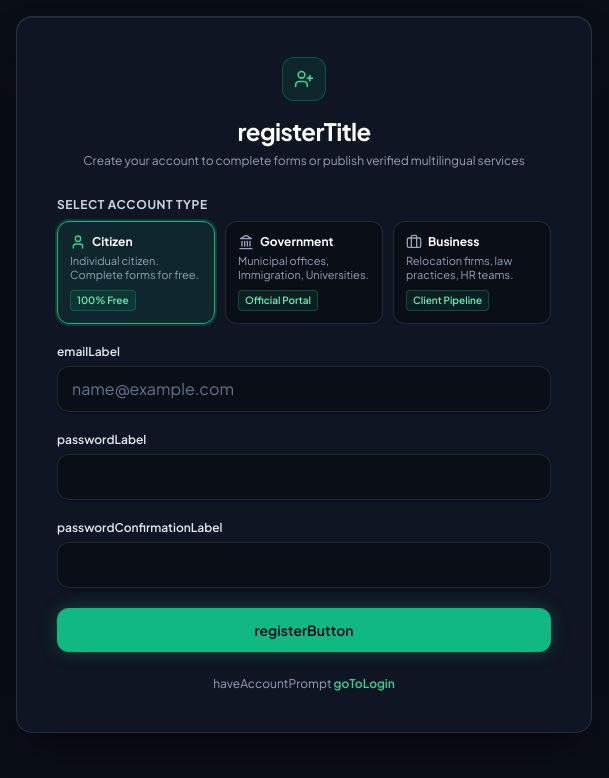
Test: RegisterForm › surfaces the password_mismatch error code as a translated message
The image size is (609, 778).
Type "new@example.com" into the field labelled "emailLabel" at (304, 388), box x1=57 y1=366 x2=551 y2=412
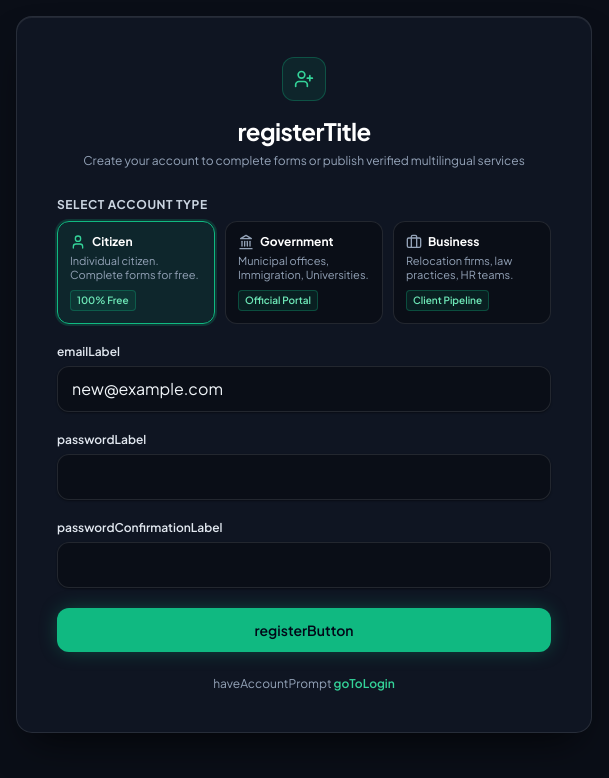
Type "correct-horse-battery" into the password field labelled "passwordLabel" at (304, 476), box x1=57 y1=454 x2=551 y2=500
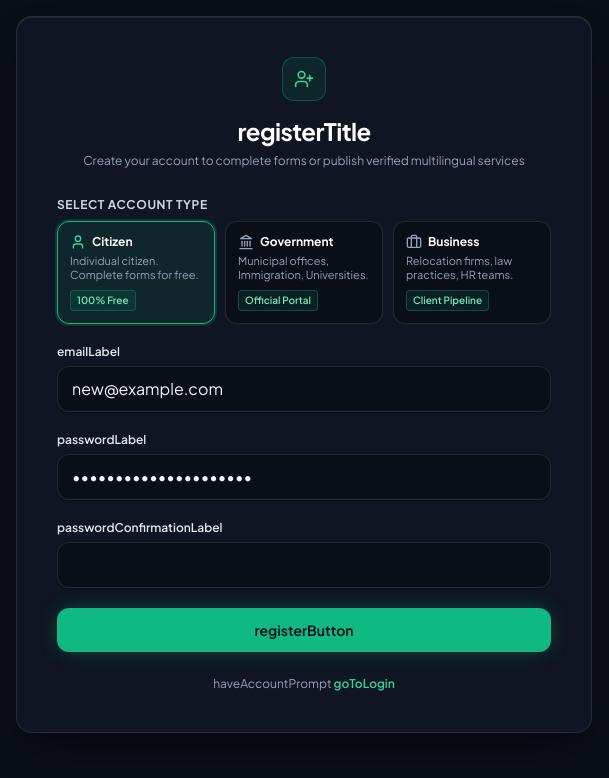
Type "different-password" into the password field labelled "passwordConfirmationLabel" at (304, 564), box x1=57 y1=542 x2=551 y2=588
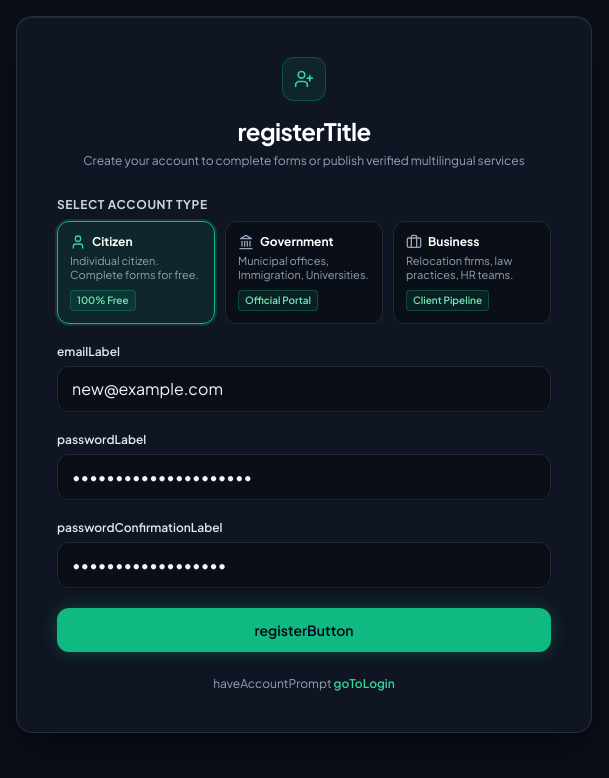
Click the button "registerButton" at (304, 630), box x1=57 y1=608 x2=551 y2=652
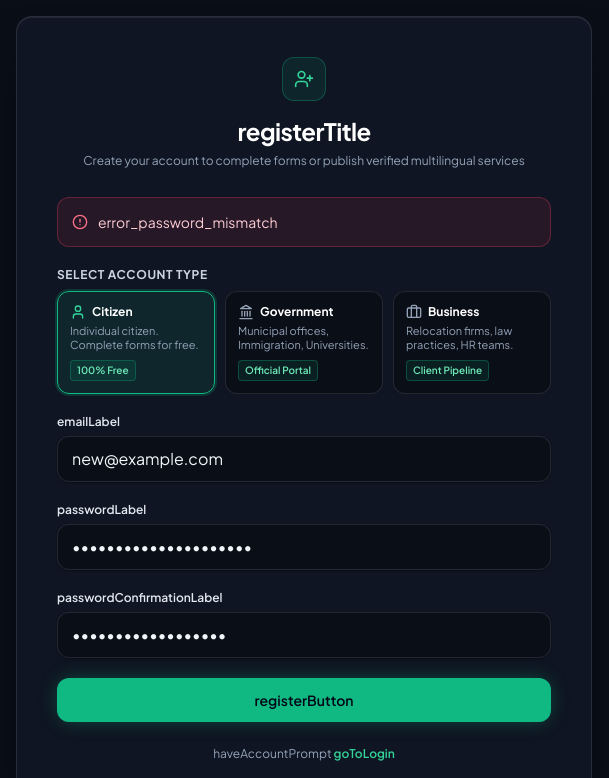
Expected: the text "error_password_mismatch" is shown, x1=98 y1=212 x2=278 y2=232
